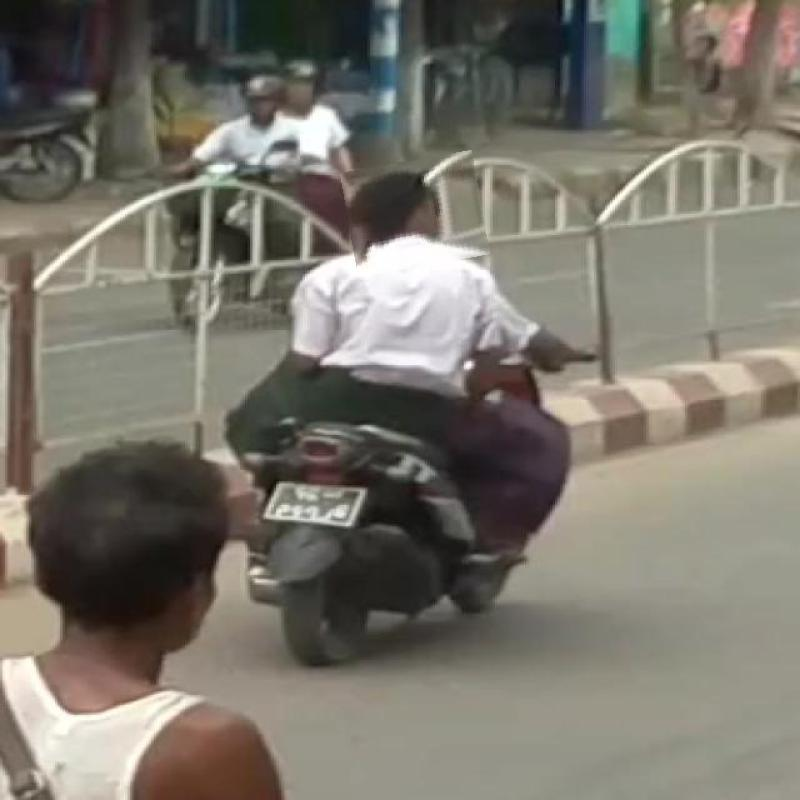nohelmet: (344, 156, 486, 272)
